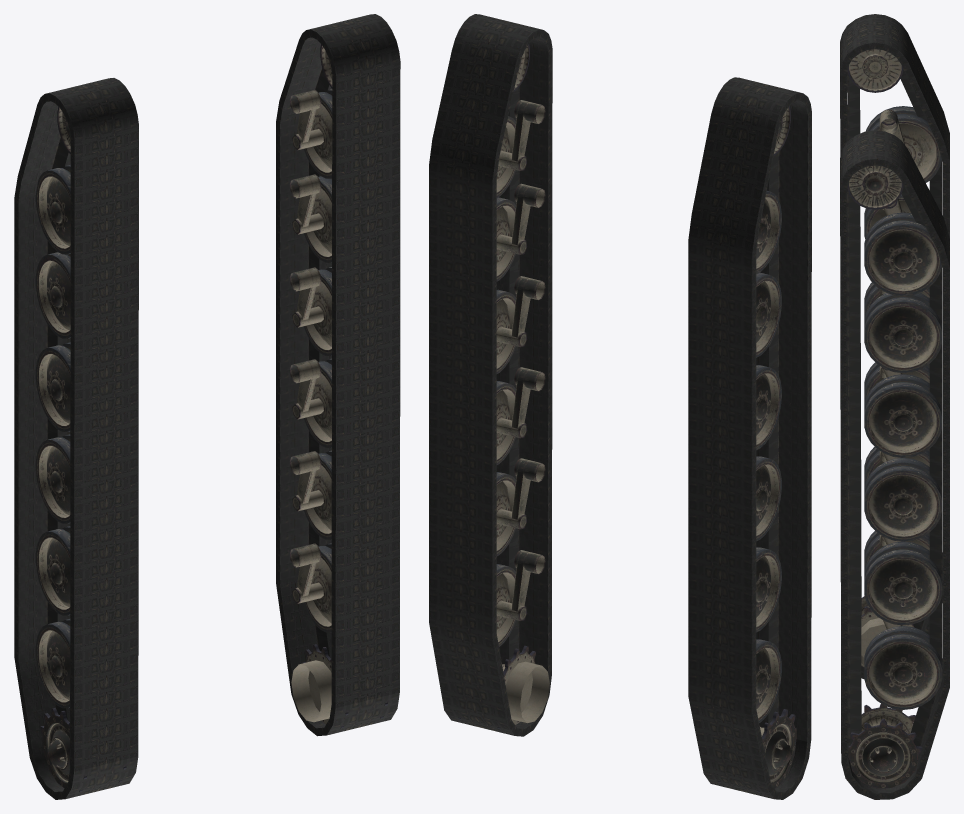
File: Chassis.glb
3 renders of one model, left to right at view 1: azimuth 30°, elevation 25°; view 2: azimuth 150°, elevation 25°; view 3: azimuth 270°, elevation 25°, orthographic. The views are drawn at different scales.
Visible parts, largest first — view 1: set_1_group_0, set_0_group_0, set_2_group_0, set_3_group_0; view 2: set_1_group_0, set_0_group_0, set_2_group_0, set_3_group_0; view 3: set_2_group_0, set_0_group_0, set_3_group_0, set_1_group_0.
Part boxes in pixels (box(x1,y1,x2,y2)): set_1_group_0: box(14, 78, 138, 799); set_0_group_0: box(276, 14, 400, 736); set_2_group_0: box(290, 44, 387, 728); set_3_group_0: box(35, 107, 126, 792); set_1_group_0: box(688, 77, 811, 799); set_0_group_0: box(429, 14, 552, 736); set_2_group_0: box(458, 44, 549, 729); set_3_group_0: box(717, 106, 796, 792); set_2_group_0: box(847, 165, 942, 788); set_0_group_0: box(840, 130, 949, 799); set_3_group_0: box(847, 49, 941, 666); set_1_group_0: box(840, 14, 949, 678).
Size of the model in its own units: 3.32 by 6.81 by 1.06.
Materials: 4 (4 with a texture image).
